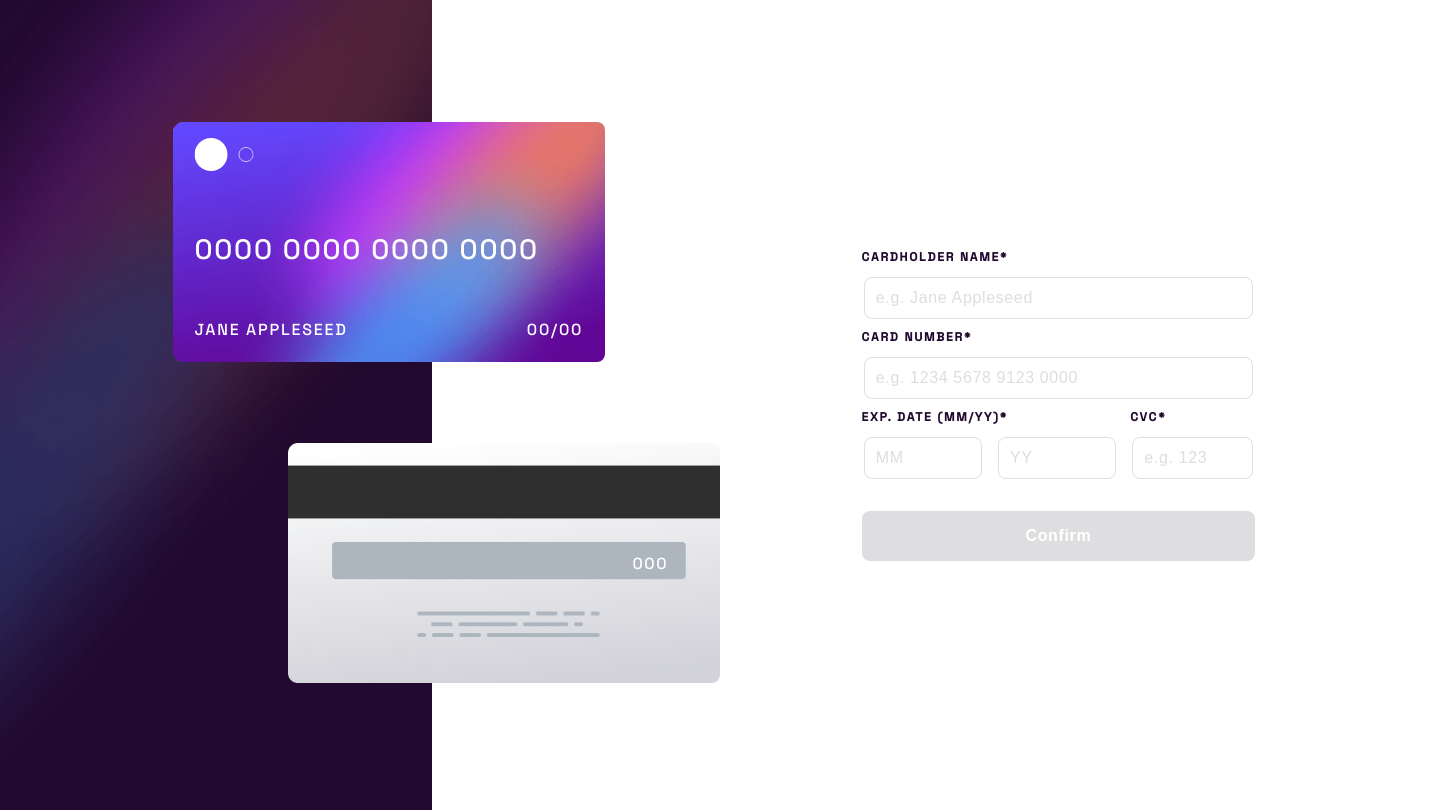
Test case: validate card month expiry input field › error displayed when incorrect month format
This screenshot has width=1440, height=810.
Type "a" into the field named "expiry month" at (923, 458), box top-left (864, 437), bottom-right (982, 479)
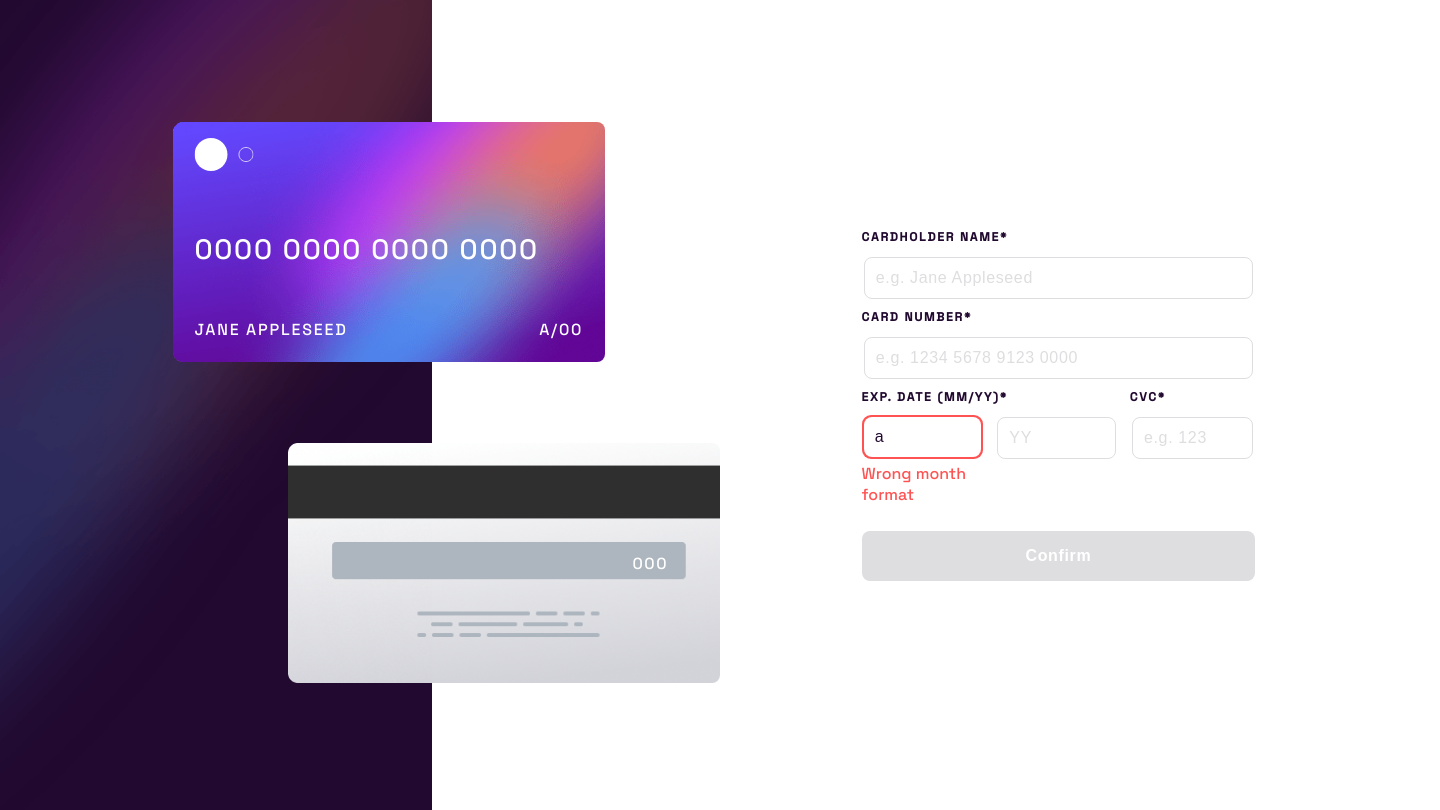
Result: the text "Wrong month format" is shown at top-left (862, 463), bottom-right (983, 505)
Clear the field named "expiry month" at (922, 437), box top-left (864, 417), bottom-right (981, 457)
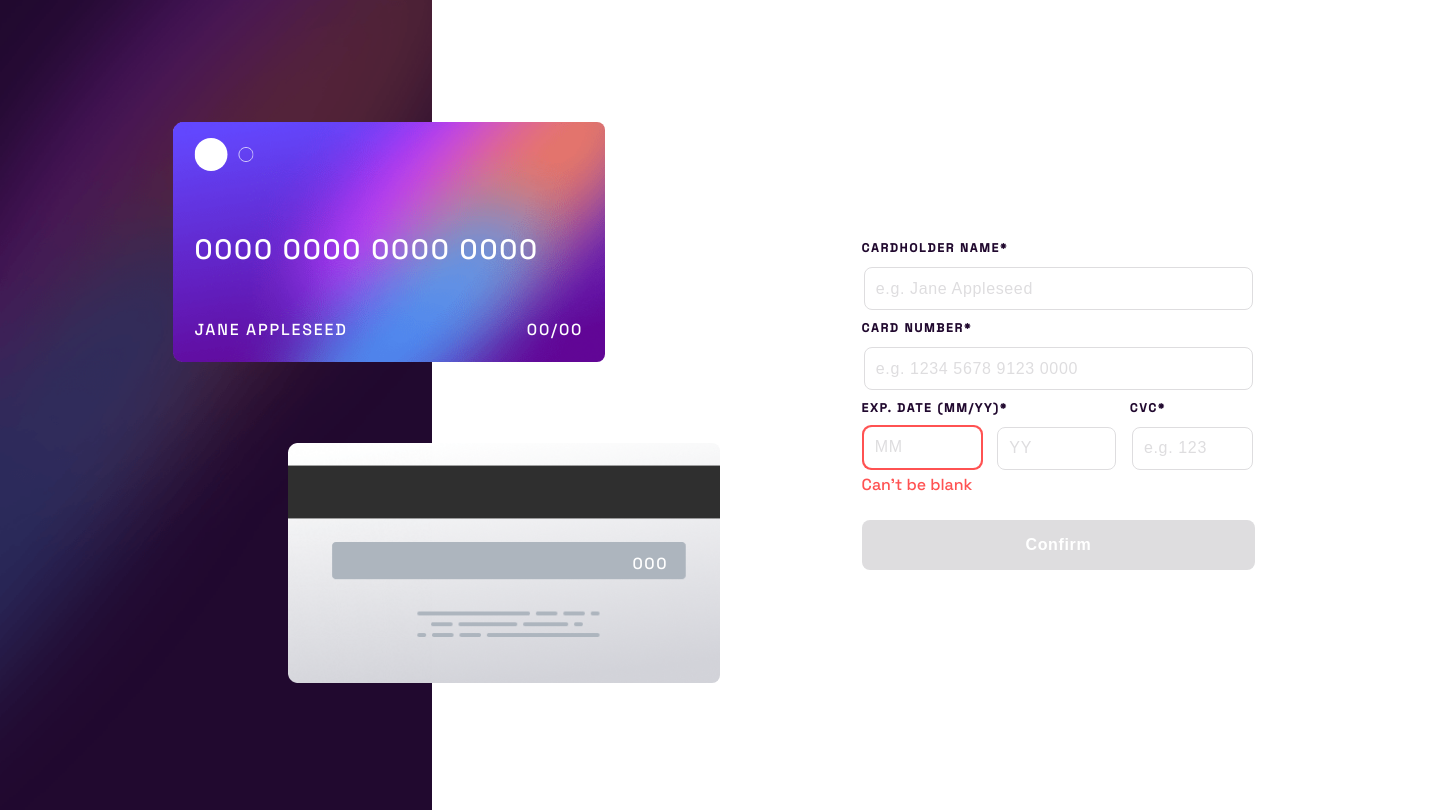
Type "23" into the field named "expiry month" at (922, 448), box top-left (864, 427), bottom-right (981, 468)
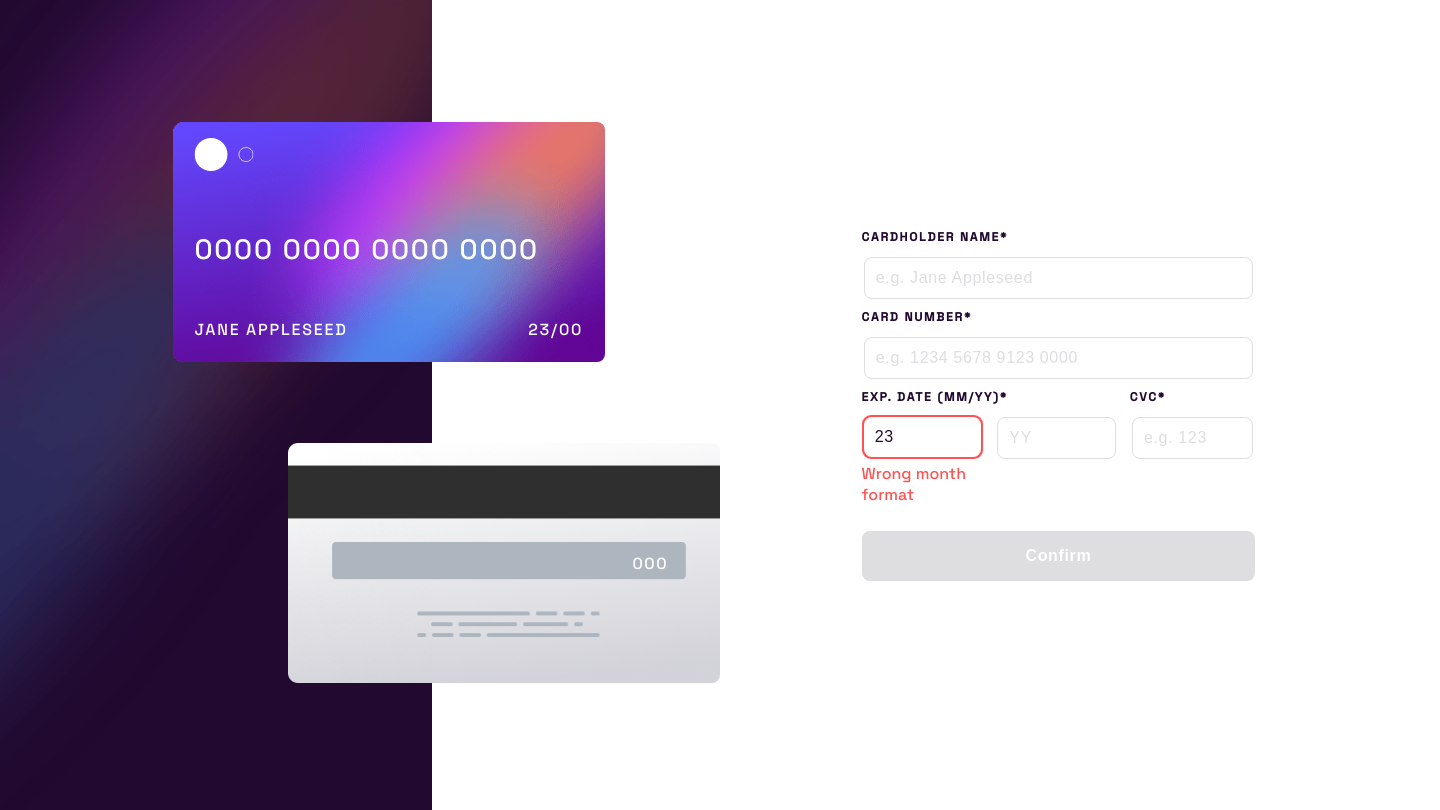
Result: the text "Wrong month format" is shown at top-left (862, 463), bottom-right (983, 505)
Clear the field named "expiry month" at (922, 437), box top-left (864, 417), bottom-right (981, 457)
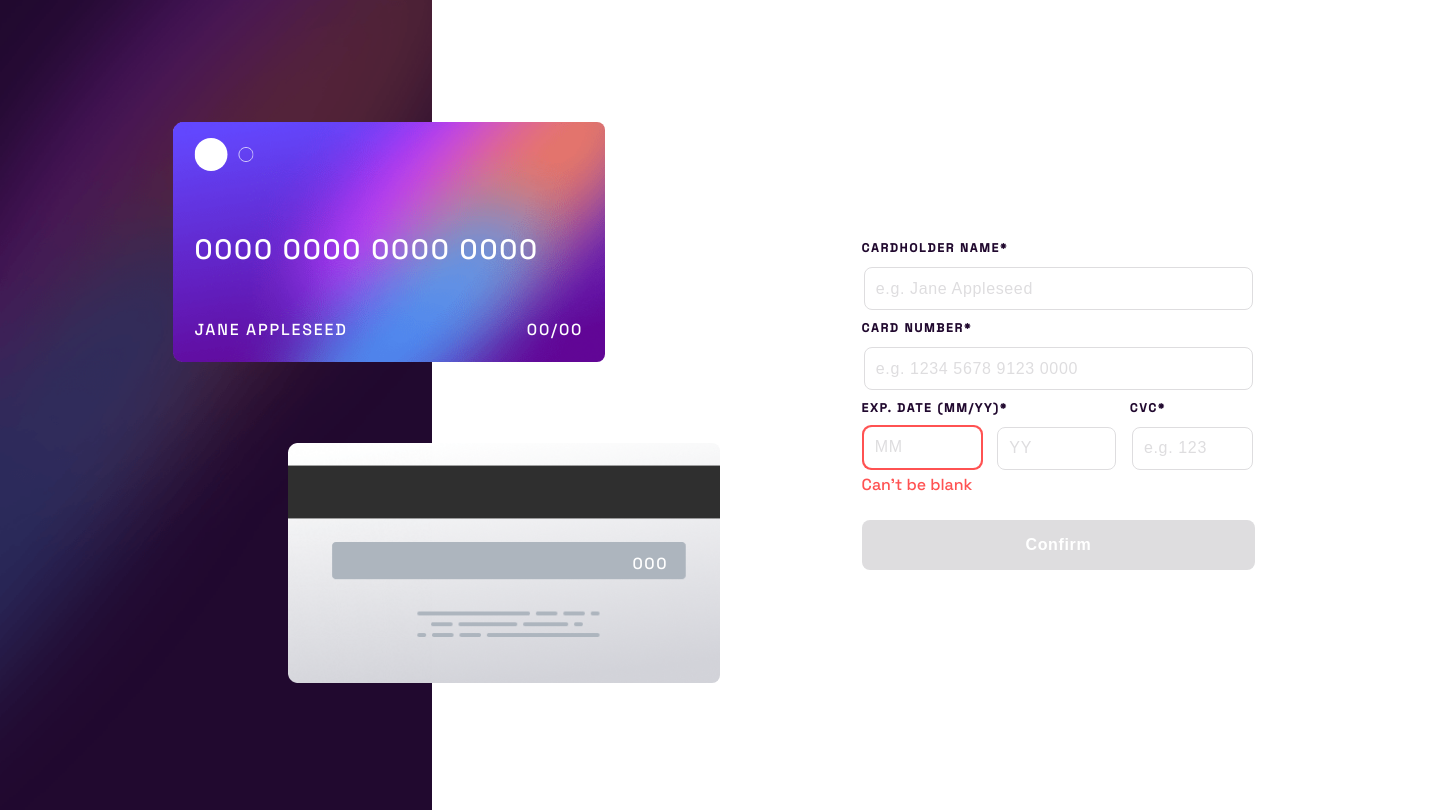
Result: the text "Can't be blank" is shown at top-left (862, 474), bottom-right (983, 495)
